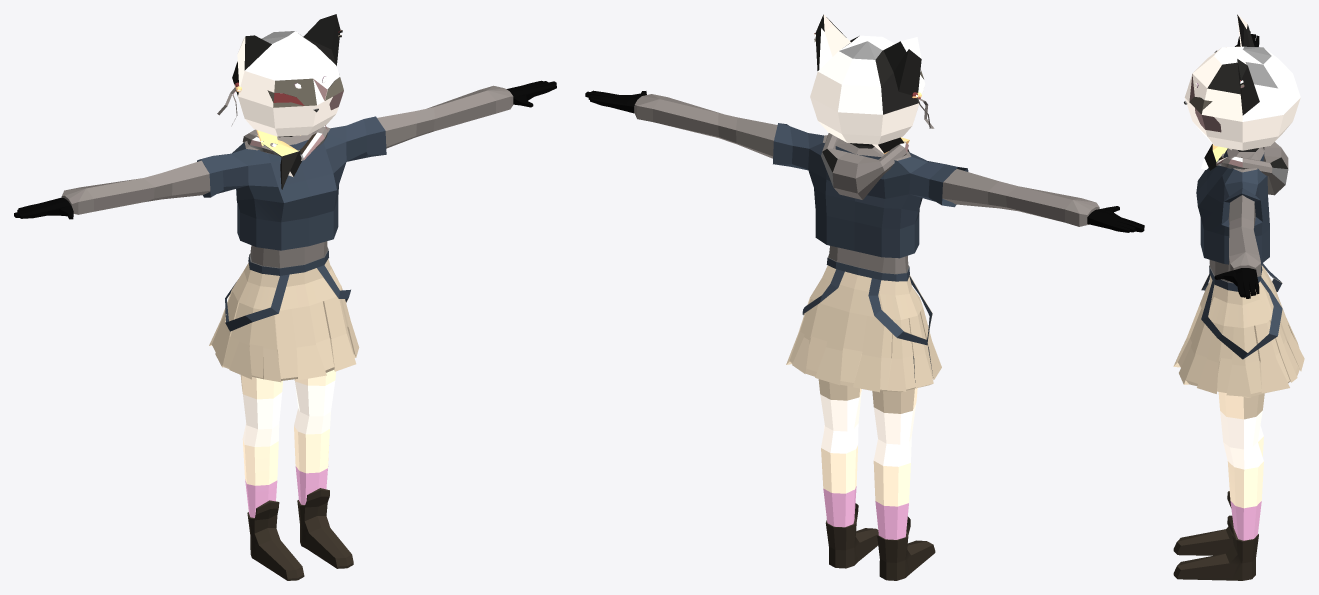
File: LunaModel.fbx
The picture shows the model from 3 angles, left to right: view 1: azimuth 30°, elevation 25°; view 2: azimuth 150°, elevation 25°; view 3: azimuth 270°, elevation 25°; orthographic projection. The views are drawn at different scales.
Parts seen in each view (by area): view 1: Luna; view 2: Luna; view 3: Luna.
Part boxes in pixels (x1,y1,x2,y2): Luna: (14,14,556,580); Luna: (585,14,1144,580); Luna: (1173,14,1304,580).
Size of the model in its own units: 194 by 180 by 40.65.
